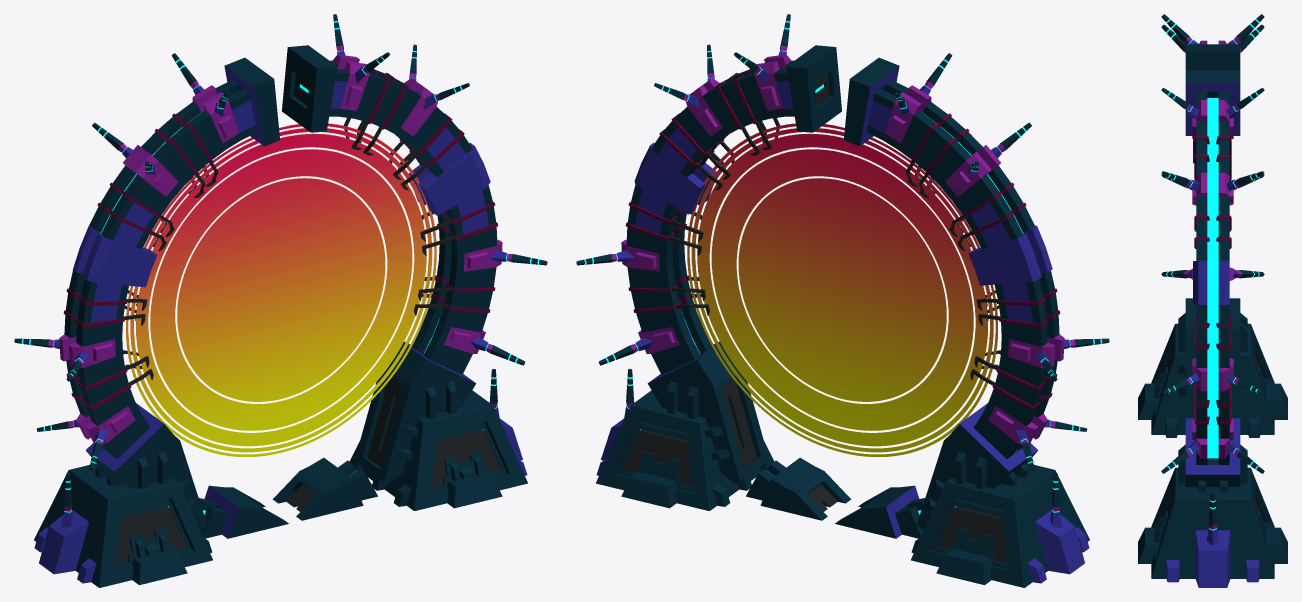
The model's file is Neo_Great_Portal.fbx.
The picture shows the model from 3 angles, left to right: view 1: azimuth 30°, elevation 25°; view 2: azimuth 150°, elevation 25°; view 3: azimuth 270°, elevation 25°; orthographic projection. The views are drawn at different scales.
Visible parts, largest first — view 1: neo_portal_fx, arc (×2), base (×2), supports (×2), arc_floor (×2), base_circuitry (×2), spiresout (×2), arc_bands (×2), conductors (×2), chambers (×2); view 2: neo_portal_fx, arc (×2), base (×2), supports (×2), arc_floor (×2), base_circuitry (×2), spiresout (×2), arc_bands (×2), conductors (×2), chambers (×2); view 3: arc (×2), base (×2), supports (×2), spiresout (×2), arc_bands, base_circuitry (×2), chambers.
Part boxes in pixels (bbox=[...]): neo_portal_fx: bbox=[126, 123, 436, 456]; arc (×2): bbox=[59, 45, 502, 528]; base (×2): bbox=[34, 390, 527, 587]; supports (×2): bbox=[34, 381, 527, 585]; arc_floor (×2): bbox=[199, 457, 377, 538]; base_circuitry (×2): bbox=[113, 422, 506, 569]; spiresout (×2): bbox=[14, 14, 547, 527]; arc_bands (×2): bbox=[63, 69, 498, 409]; conductors (×2): bbox=[123, 118, 454, 385]; chambers (×2): bbox=[93, 85, 487, 432]; neo_portal_fx: bbox=[687, 123, 997, 456]; arc (×2): bbox=[621, 45, 1064, 528]; base (×2): bbox=[596, 390, 1089, 587]; supports (×2): bbox=[596, 381, 1089, 585]; arc_floor (×2): bbox=[746, 457, 924, 538]; base_circuitry (×2): bbox=[617, 422, 1010, 569]; spiresout (×2): bbox=[576, 14, 1109, 527]; arc_bands (×2): bbox=[625, 69, 1060, 409]; conductors (×2): bbox=[669, 118, 1000, 385]; chambers (×2): bbox=[636, 85, 1030, 432]; arc (×2): bbox=[1185, 40, 1240, 486]; base (×2): bbox=[1151, 323, 1274, 578]; supports (×2): bbox=[1138, 313, 1287, 587]; spiresout (×2): bbox=[1161, 14, 1264, 545]; arc_bands: bbox=[1194, 136, 1231, 424]; base_circuitry (×2): bbox=[1160, 347, 1268, 542]; chambers: bbox=[1192, 118, 1233, 440].
Size of the model in its own units: 5653 by 5151 by 1628.
